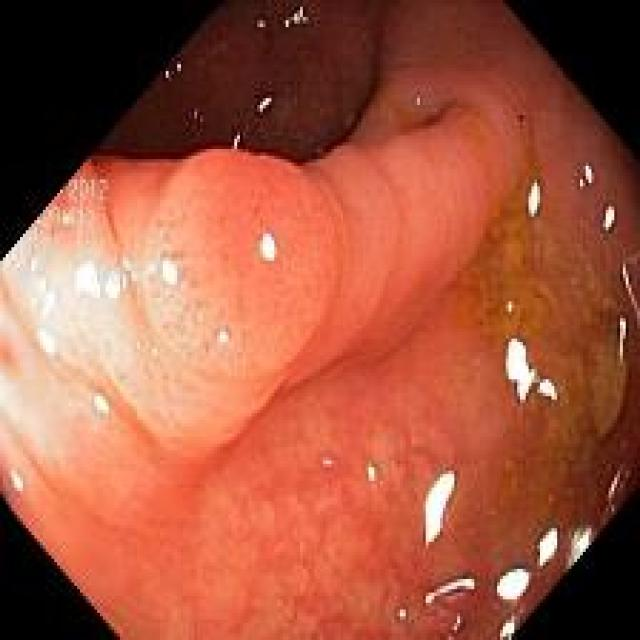Polyps: (31, 111, 494, 457)
